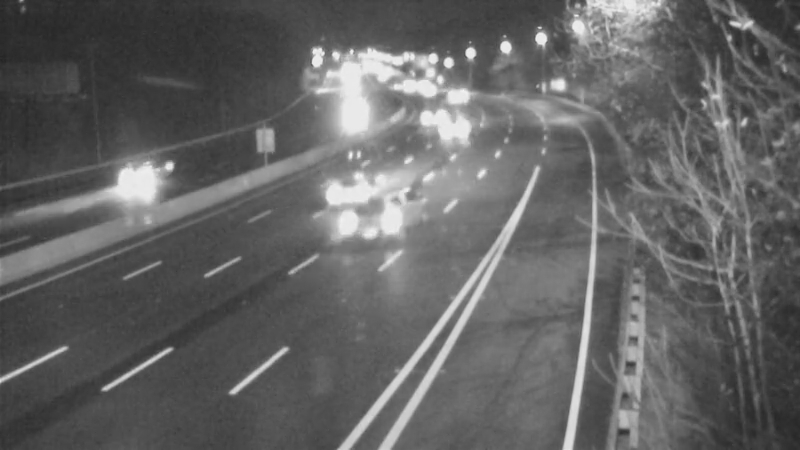vehicle: (308, 152, 388, 232), (326, 187, 406, 267), (107, 136, 187, 216), (378, 58, 428, 108), (405, 65, 455, 115), (431, 70, 481, 120), (396, 94, 446, 144), (422, 107, 472, 157), (327, 89, 377, 139)
